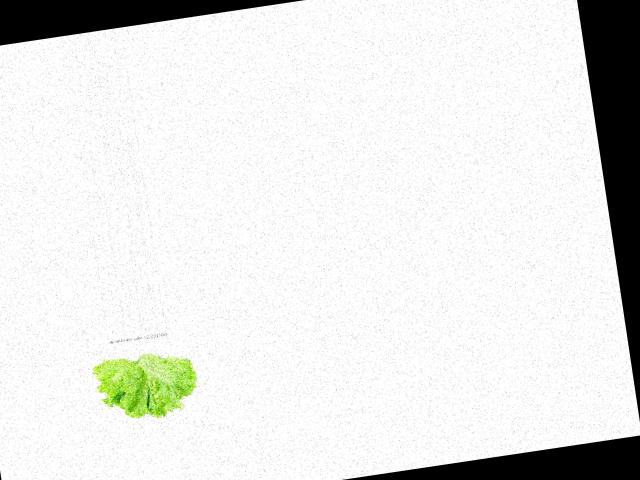lettuce: (88, 333, 204, 427)
